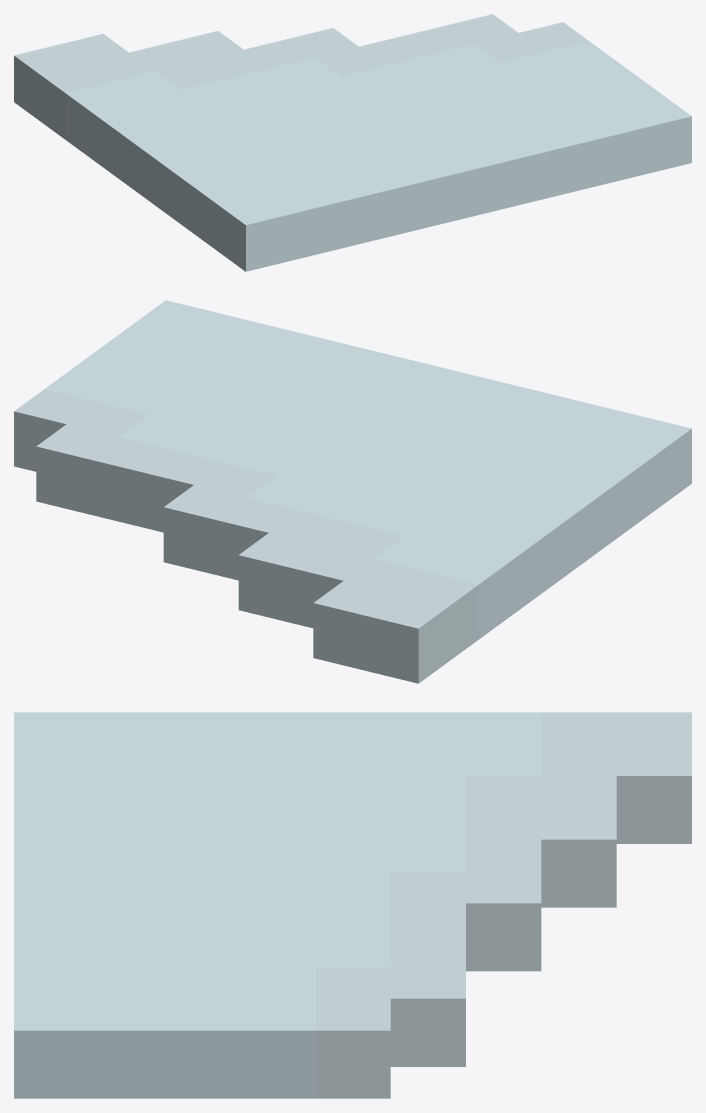
The model's file is grass_lined_diagonal_A_down.obj.
3 renders of one model, top to bottom at view 1: azimuth 30°, elevation 25°; view 2: azimuth 150°, elevation 25°; view 3: azimuth 270°, elevation 25°, orthographic. The views are drawn at different scales.
Bounding box in the file's own units: 1 × 0.1 × 0.9.
1 material, 1 textured.
